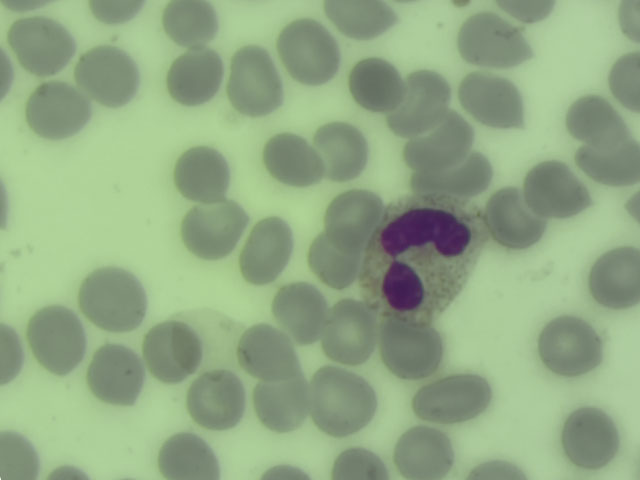RBC: (412, 145, 496, 199), (401, 371, 492, 420), (308, 370, 374, 434), (458, 10, 528, 68), (240, 211, 294, 285), (400, 109, 474, 162), (567, 133, 640, 186), (540, 314, 601, 377), (461, 67, 522, 130), (527, 157, 588, 220), (483, 186, 544, 249), (561, 403, 622, 466), (222, 49, 283, 111), (173, 145, 232, 200), (251, 374, 310, 429), (239, 325, 298, 380), (188, 370, 247, 425), (144, 323, 203, 378), (86, 345, 145, 400), (84, 272, 143, 327), (26, 313, 85, 368), (279, 24, 338, 79), (163, 46, 222, 101), (78, 47, 137, 102), (26, 82, 85, 137), (11, 17, 70, 72), (320, 305, 379, 360), (269, 285, 328, 340), (393, 72, 452, 127), (347, 57, 406, 112), (309, 124, 368, 179), (259, 130, 318, 185), (304, 230, 363, 285), (320, 186, 379, 241), (183, 206, 242, 261), (395, 425, 454, 479), (161, 1, 220, 55), (155, 432, 222, 479), (587, 247, 640, 305), (326, 1, 402, 40), (563, 98, 626, 137), (610, 44, 640, 118), (490, 1, 568, 28), (326, 444, 386, 479), (1, 317, 27, 389), (1, 432, 39, 480), (86, 1, 143, 25), (611, 1, 640, 48)
WBC: (373, 199, 480, 319)
